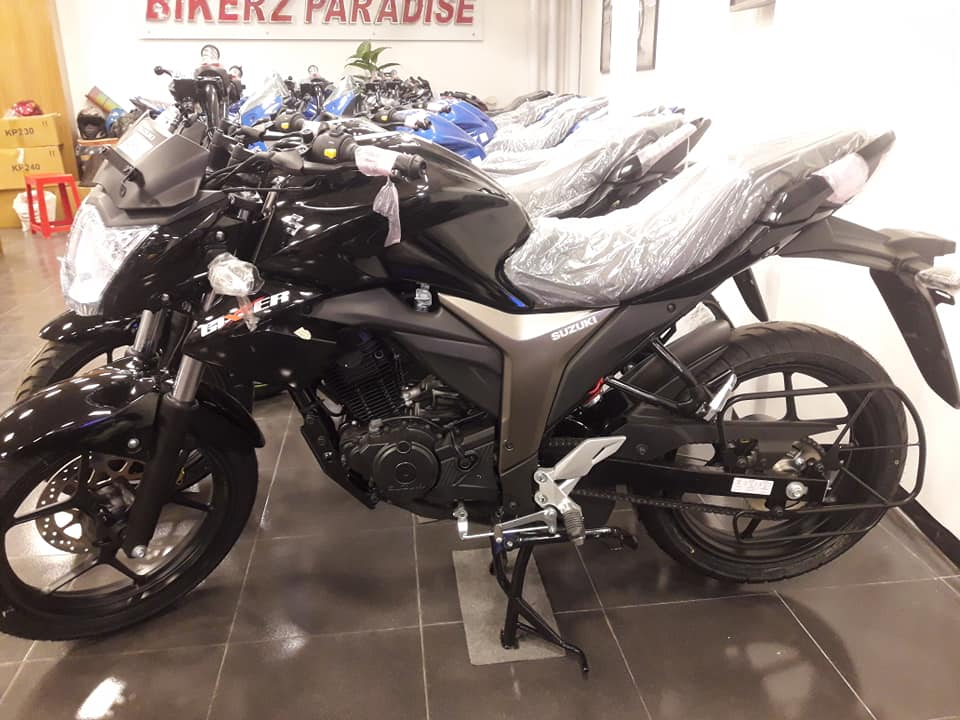bike: (1, 42, 960, 664), (176, 67, 716, 217), (270, 63, 609, 141)
